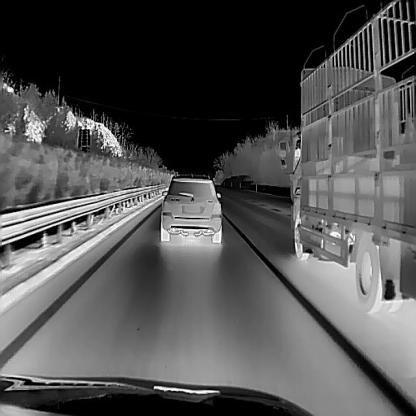car: (160, 172, 221, 242)
truck: (278, 0, 416, 314)
